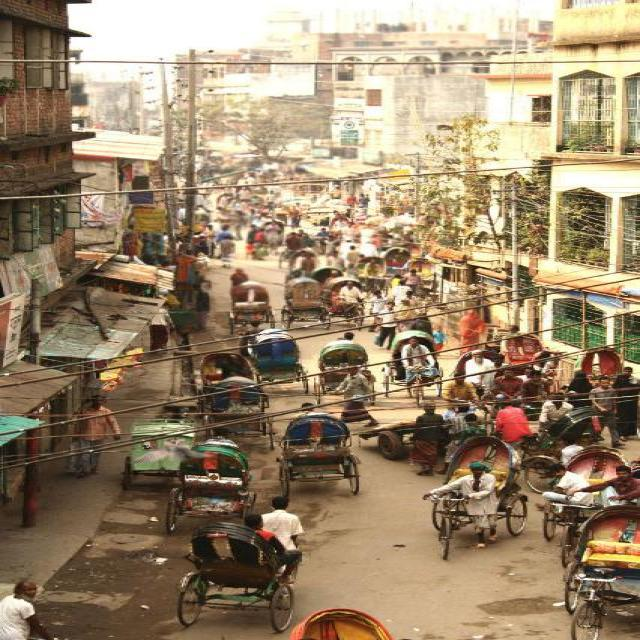rickshaw: (168, 495, 302, 633), (419, 431, 529, 563), (557, 501, 636, 639), (271, 400, 366, 500), (535, 445, 622, 547), (165, 439, 254, 531), (196, 374, 274, 458), (377, 327, 445, 407), (310, 337, 375, 407), (244, 328, 309, 396), (220, 278, 276, 334), (278, 274, 329, 332), (324, 275, 367, 331), (569, 348, 627, 382)
